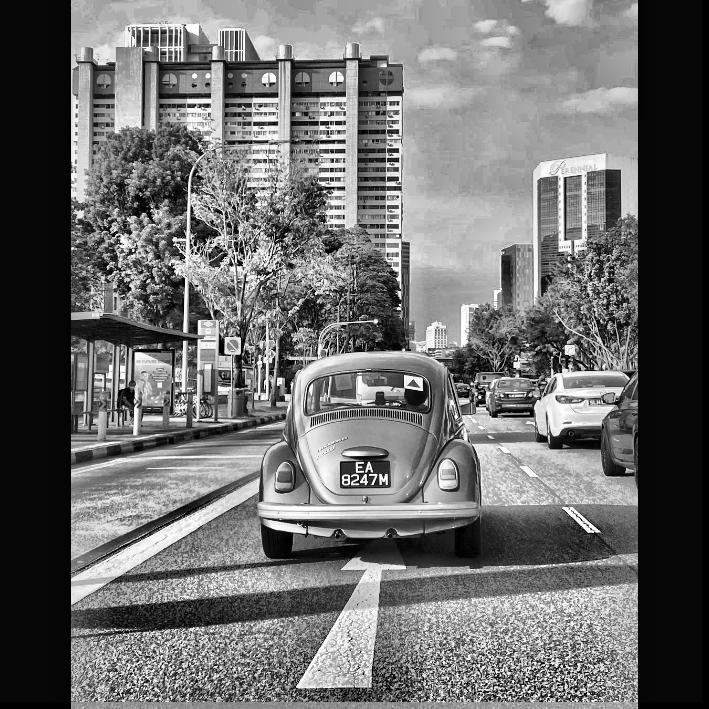License-Plates: (338, 461, 388, 487), (588, 399, 618, 405)
